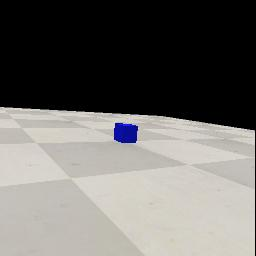box: (114, 123, 138, 143)
